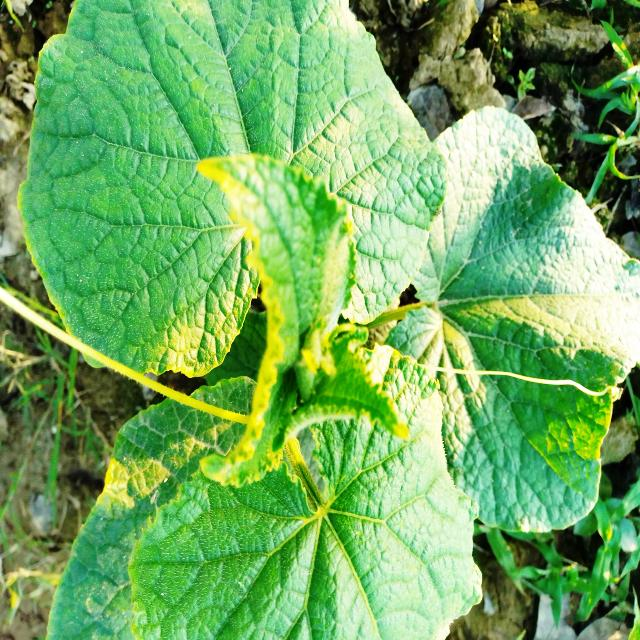Fresh-Leaf: (14, 0, 449, 381), (379, 106, 638, 535), (127, 336, 484, 640)
